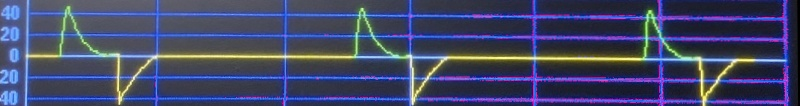normal_flow: (25, 0, 751, 106)
